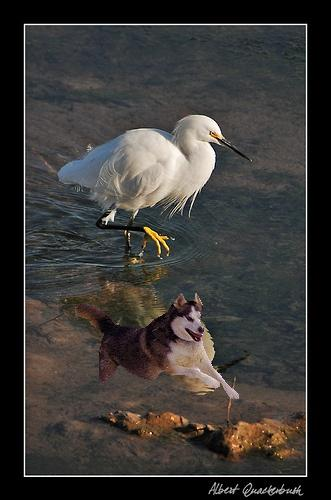tampered: (75, 293, 239, 399)
